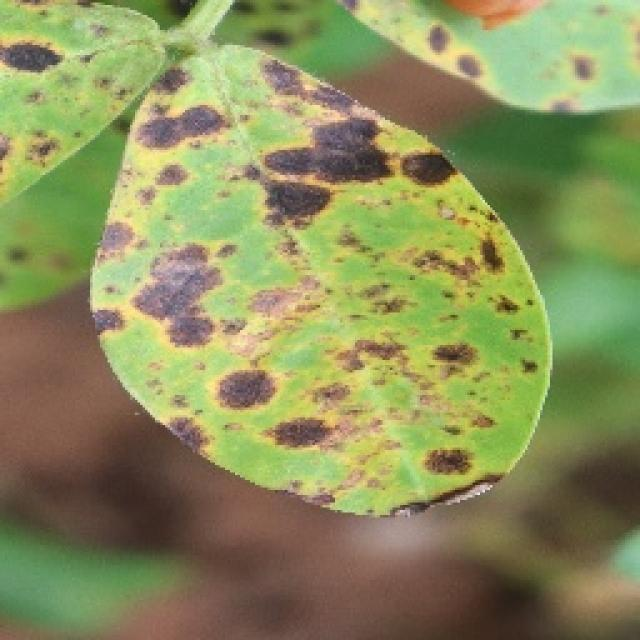Yellowish: (0, 0, 592, 502)
